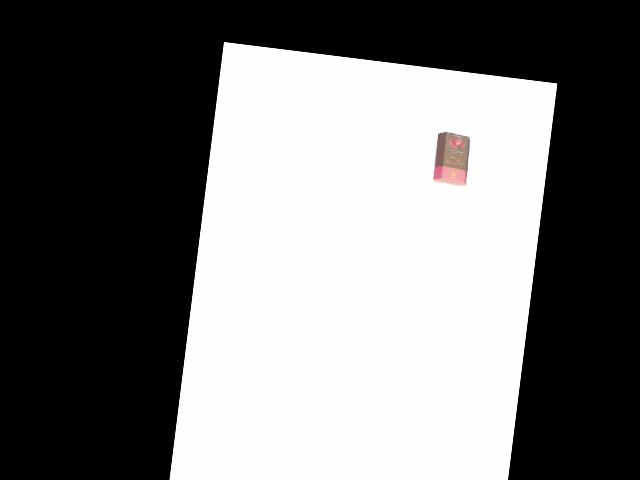chocolate: (430, 126, 473, 188)
